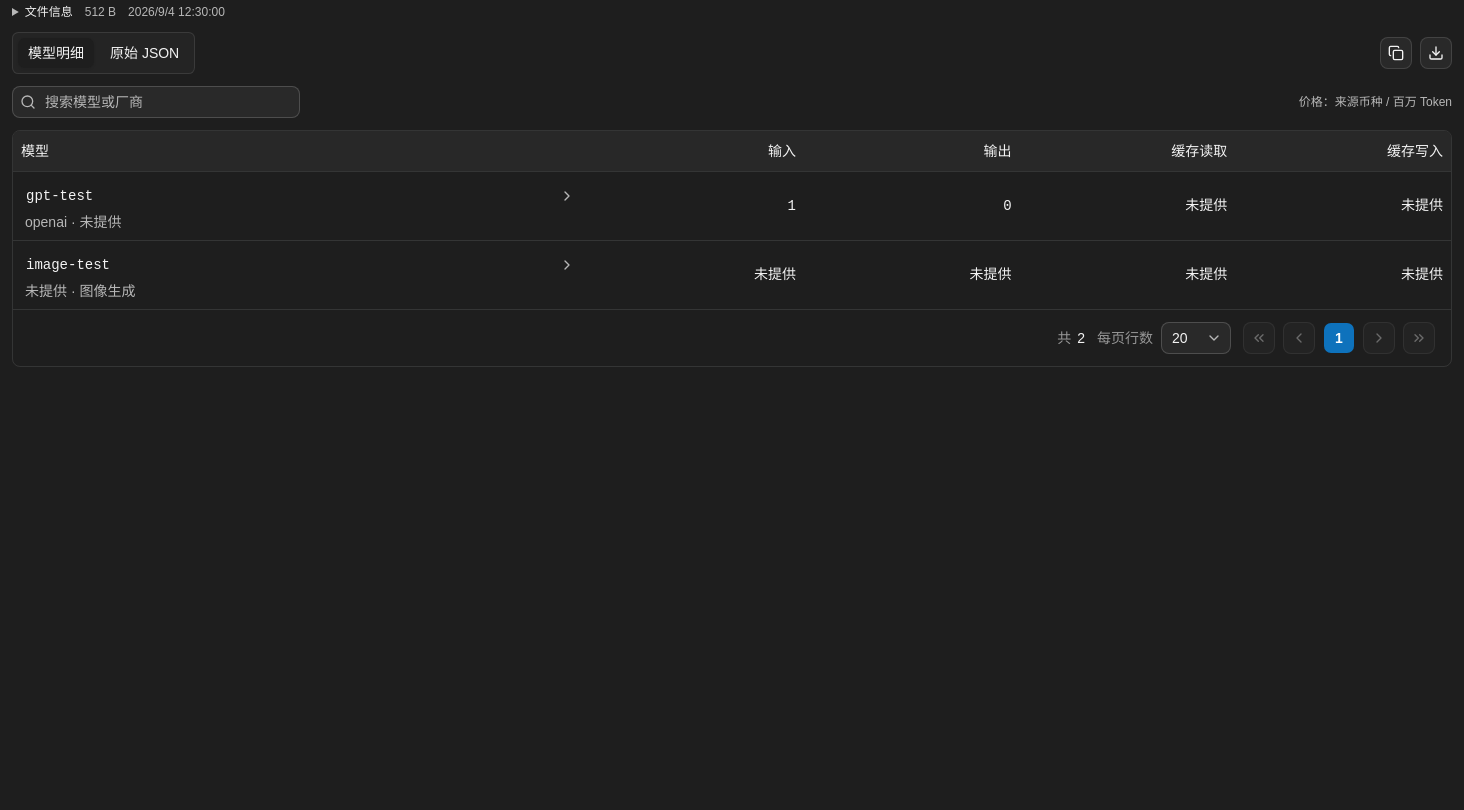
Test: 远程价卡阅读 › 剪贴板拒绝写入时显示可操作的失败提示
This screenshot has width=1464, height=810.
Click the button named "复制原始文件" at (1396, 53), box [1380,37,1412,69]
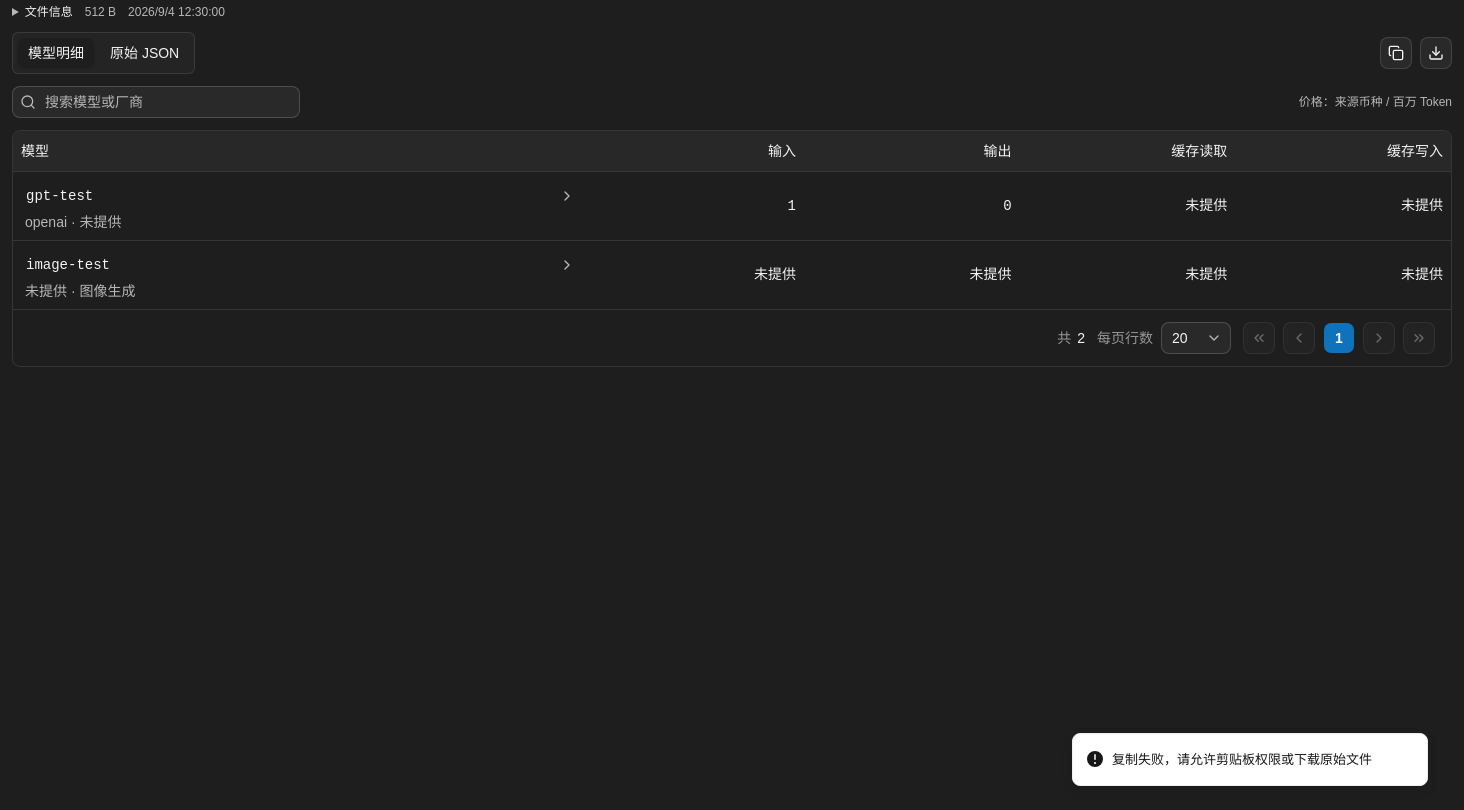
Expected: the text "复制失败，请允许剪贴板权限或下载原始文件" is shown, [1112,750,1372,769]
